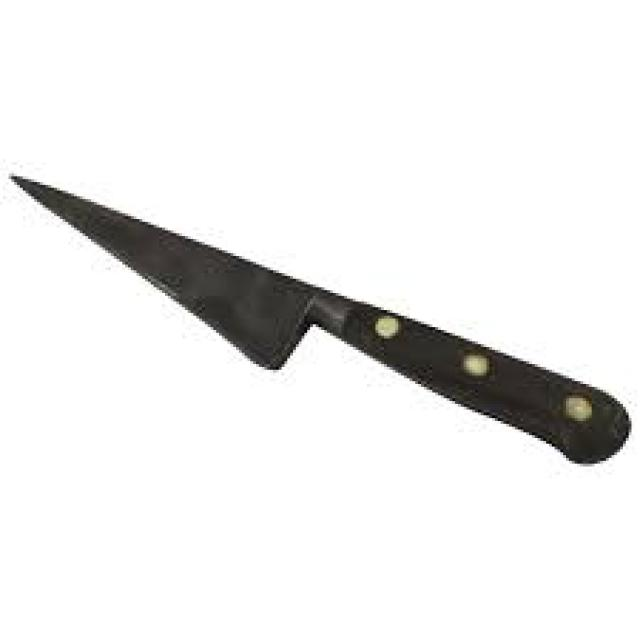Knife: (6, 170, 632, 464)
